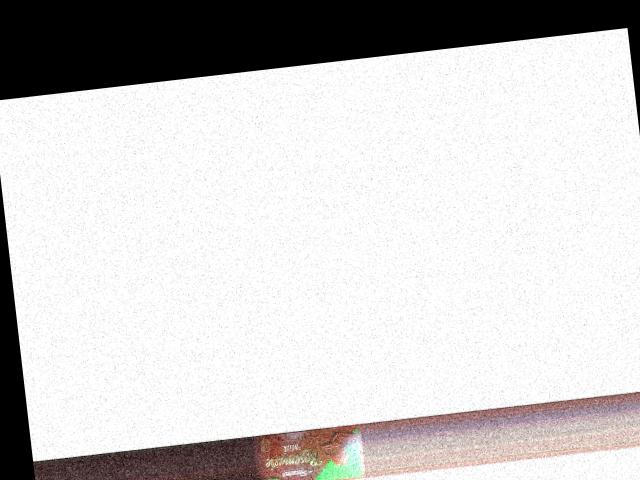chocolate: (249, 424, 364, 480)
